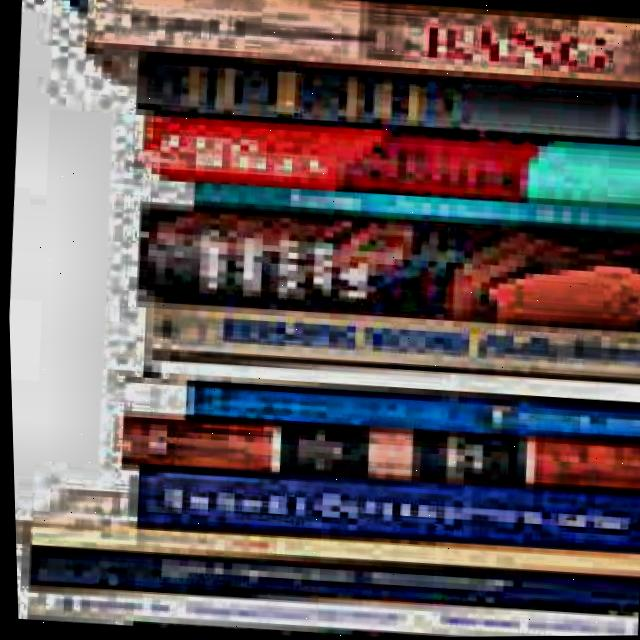paper: (115, 207, 640, 347), (73, 0, 640, 126), (15, 533, 637, 631), (129, 116, 640, 225), (12, 510, 638, 598), (124, 464, 640, 561), (132, 303, 640, 400), (125, 64, 640, 156), (109, 417, 640, 505), (13, 574, 634, 640), (113, 347, 640, 423), (171, 375, 640, 451), (173, 177, 640, 247)
